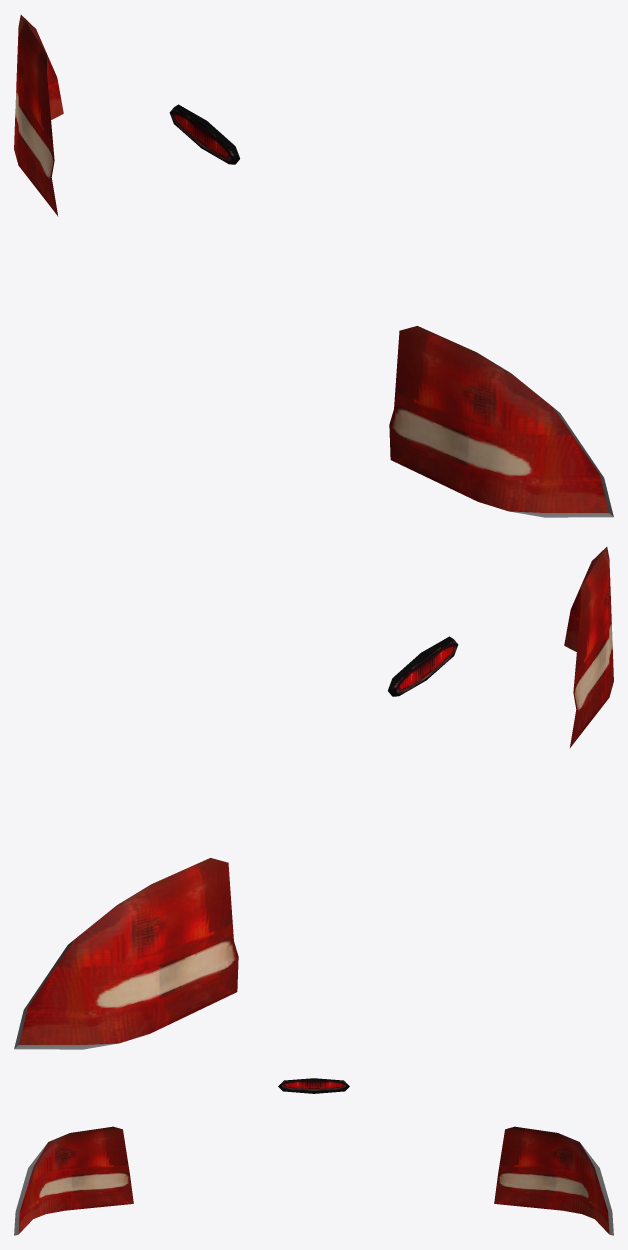
File: brakelight.fbx
3 renders of one model, top to bottom at view 1: azimuth 30°, elevation 25°; view 2: azimuth 150°, elevation 25°; view 3: azimuth 270°, elevation 25°, orthographic. The views are drawn at different scales.
Visible parts, largest first — view 1: KIT00_BRAKELIGHT_A; view 2: KIT00_BRAKELIGHT_A; view 3: KIT00_BRAKELIGHT_A.
Boxes of the visible parts, x1,y1,x2,y2 form: KIT00_BRAKELIGHT_A: (14, 15, 613, 517); KIT00_BRAKELIGHT_A: (14, 547, 613, 1049); KIT00_BRAKELIGHT_A: (14, 1078, 613, 1235).
Size of the model in its own units: 22.05 by 35.01 by 156.
